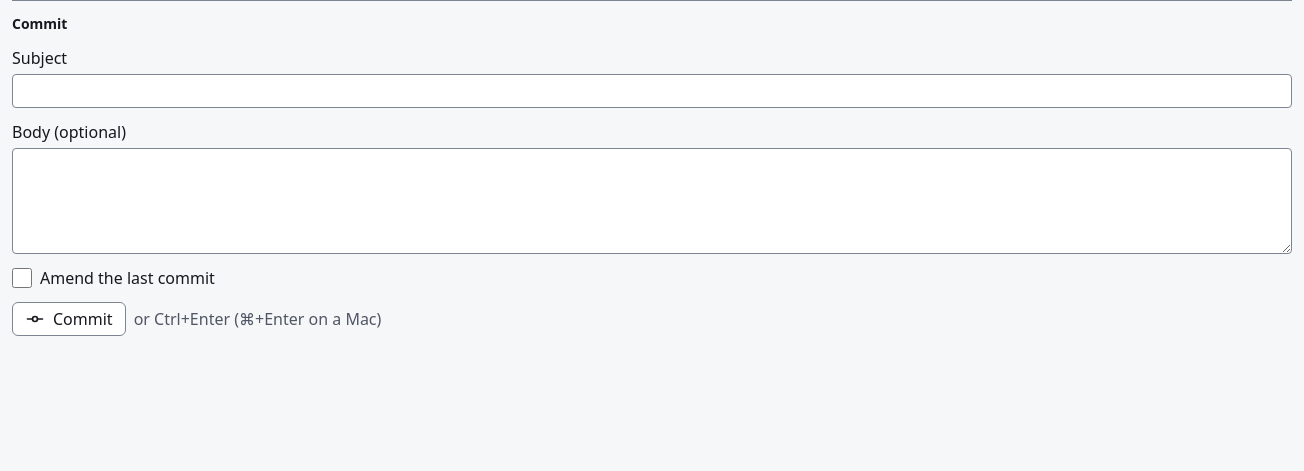
it: what a passing hook said is shown with the commit
In the field labelled "Subject": (652, 91) top-left (12, 74), bottom-right (1292, 108), type "Add a"
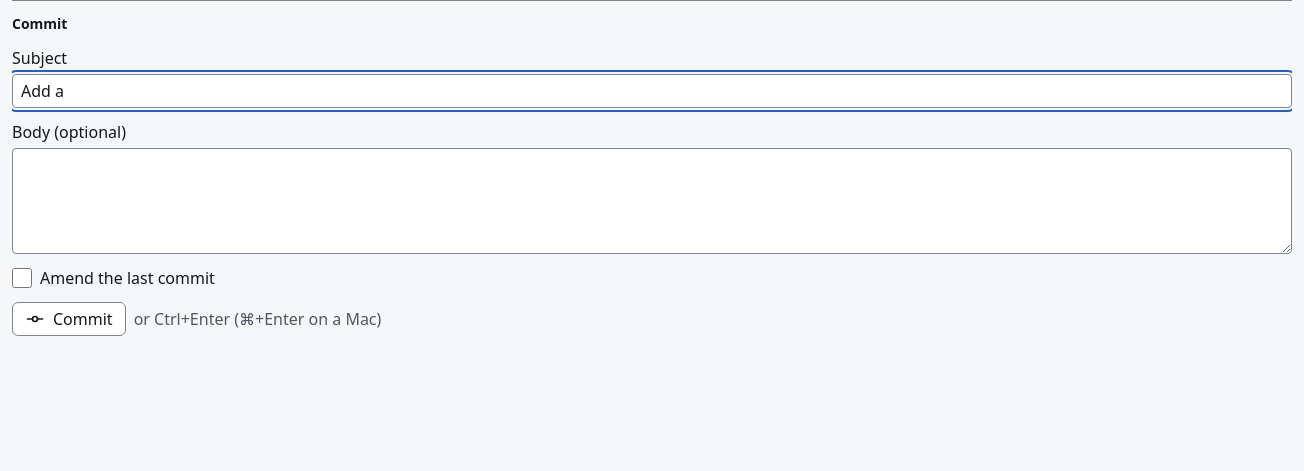
Click the button "Commit": click(69, 319) top-left (12, 302), bottom-right (126, 336)
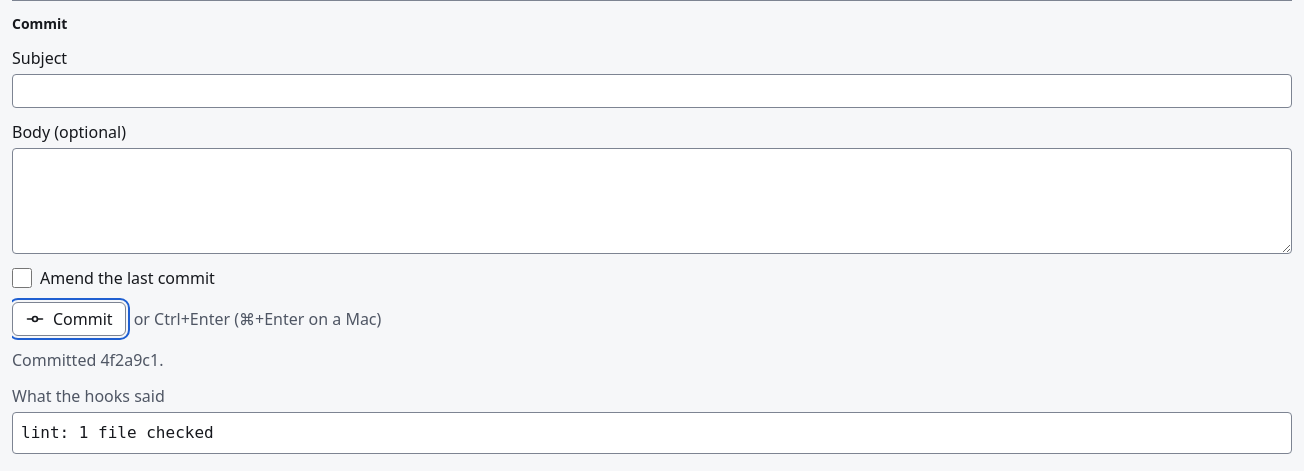
Now the text "Committed 4f2a9c1." is shown, box top-left (12, 349), bottom-right (164, 371)
Now the text "lint: 1 file checked" is shown, box top-left (12, 412), bottom-right (1292, 454)
